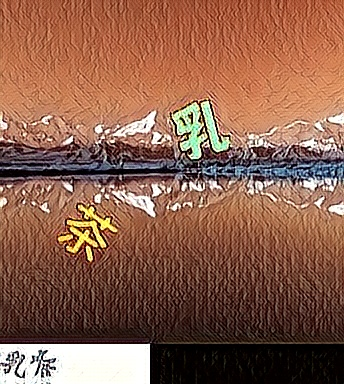B2E8: (57, 200, 117, 264)
C8E9: (168, 98, 228, 162)
